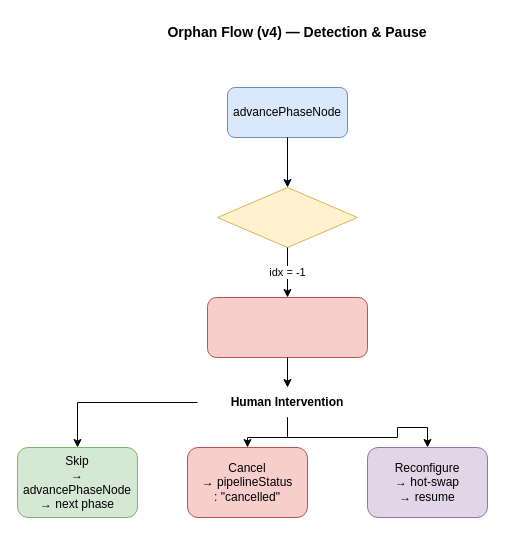
Some shapes in this 515 by 535 pixel diagram are drawn without their labels. Each missing label, with the box of its shape:
Pipeline PAUSED pipelineStatus: "paused" approvalRequired: true: (206, 296, 368, 358)
resolvePhaseIndex(): (216, 186, 358, 248)
